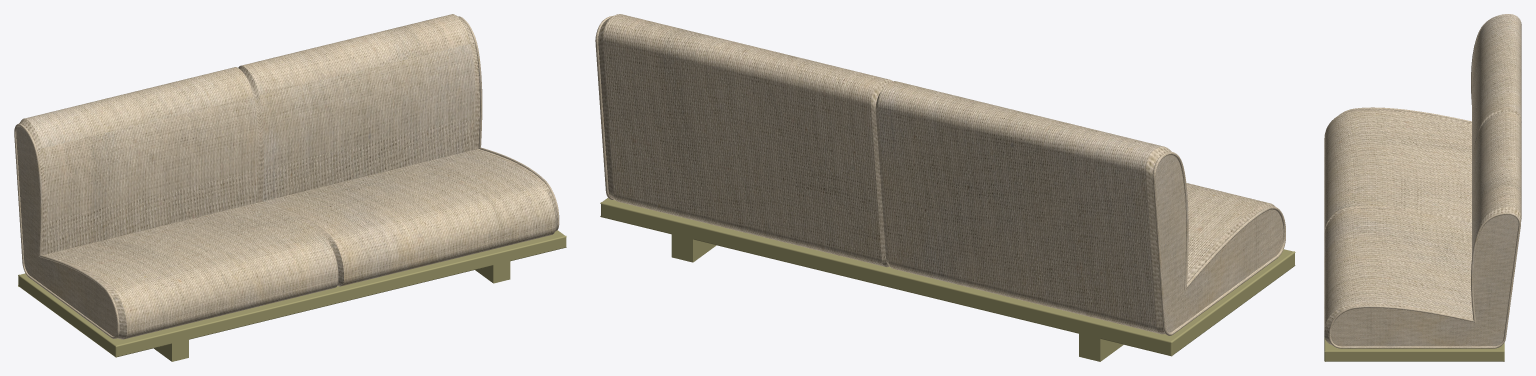
3 views of the same model, side by side, from view 1: azimuth 30°, elevation 25°; view 2: azimuth 150°, elevation 25°; view 3: azimuth 270°, elevation 25° (orthographic). The views are drawn at different scales.
Visible parts, largest first — view 1: Default (×16); view 2: Default (×15); view 3: Default (×13).
Part boxes in pixels (x1=…): Default (×16): x1=14, y1=14, x2=566, y2=361; Default (×15): x1=595, y1=14, x2=1294, y2=361; Default (×13): x1=1324, y1=14, x2=1521, y2=361.
Bounding box in the file's own units: 427 × 163 × 175.
4 materials, 2 textured.
